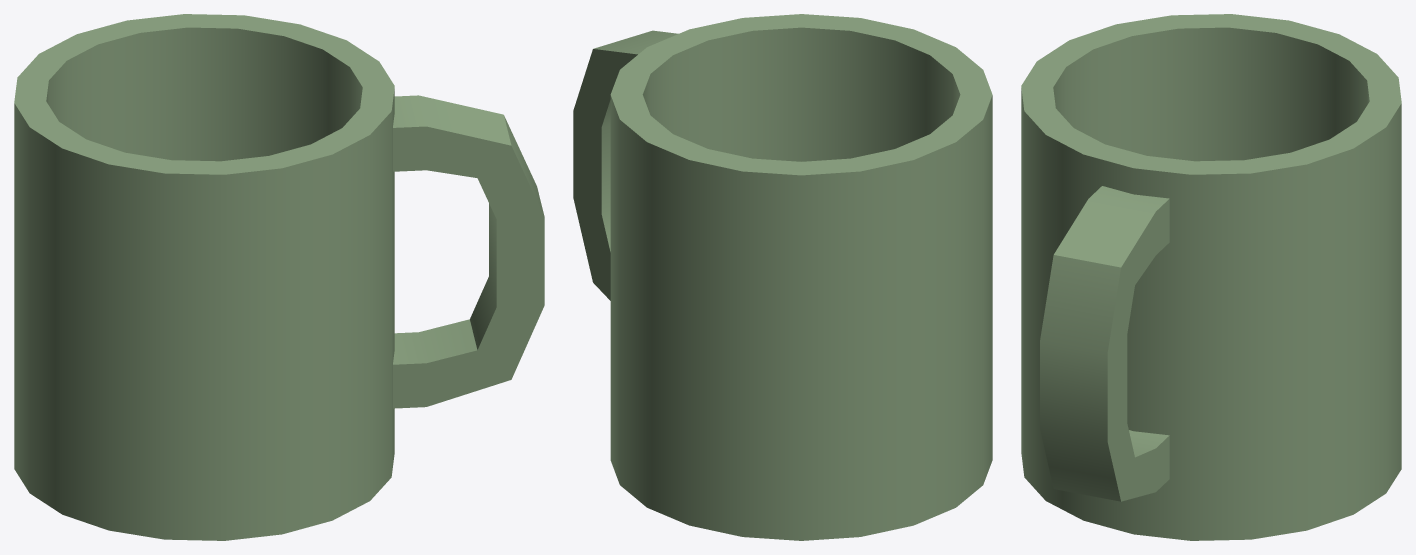
Rendered from Mug.fbx.
3 views of the same model, side by side, from view 1: azimuth 30°, elevation 25°; view 2: azimuth 150°, elevation 25°; view 3: azimuth 270°, elevation 25° (orthographic).
Visible parts, largest first — view 1: Mug; view 2: Mug; view 3: Mug.
Boxes of the visible parts, bbox=[...] form: Mug: bbox=[14, 14, 544, 540]; Mug: bbox=[573, 14, 992, 540]; Mug: bbox=[1021, 14, 1401, 540].
Size of the model in its own units: 15.19 by 11.93 by 11.24.
